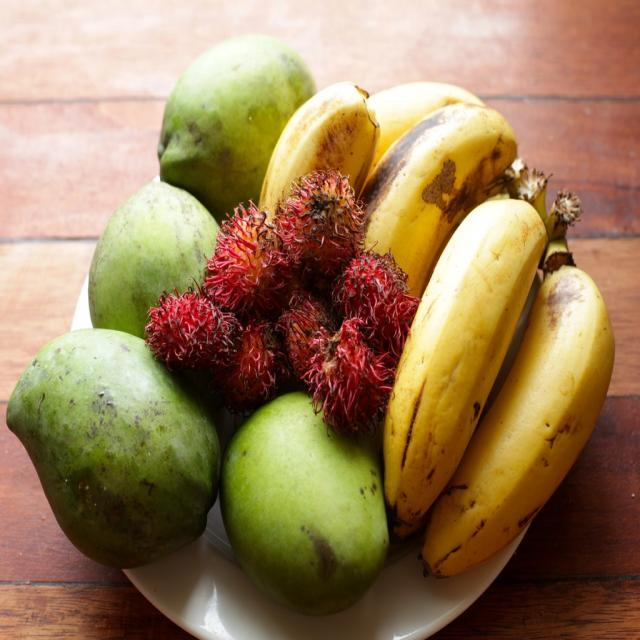Mango: (9, 330, 226, 566), (219, 390, 389, 612), (90, 184, 224, 336)
